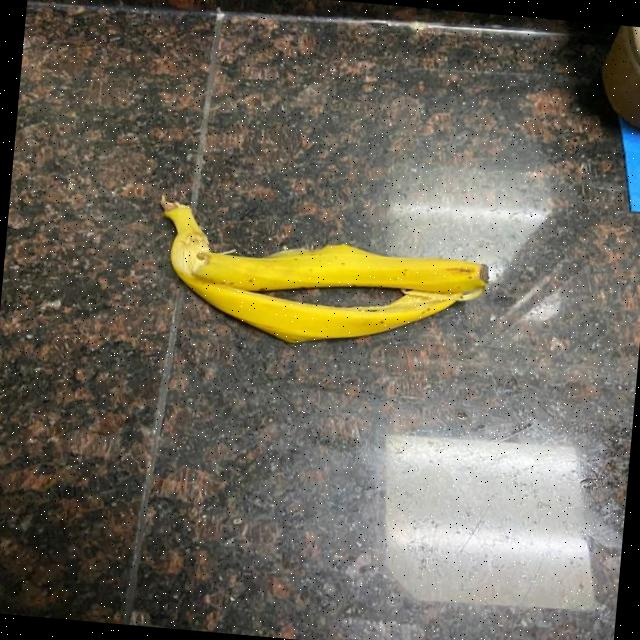banana-peel: (146, 192, 494, 360)
